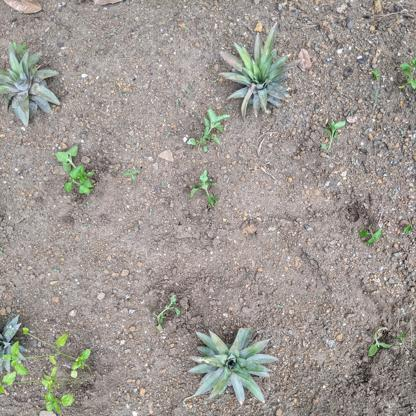pineapple: (185, 323, 280, 408), (220, 22, 291, 118), (1, 47, 64, 127)
weed: (1, 311, 97, 416), (54, 145, 97, 199), (369, 56, 416, 96), (359, 220, 416, 251), (186, 168, 227, 211), (187, 106, 225, 148), (149, 286, 184, 330), (360, 323, 397, 363), (320, 115, 350, 153)
